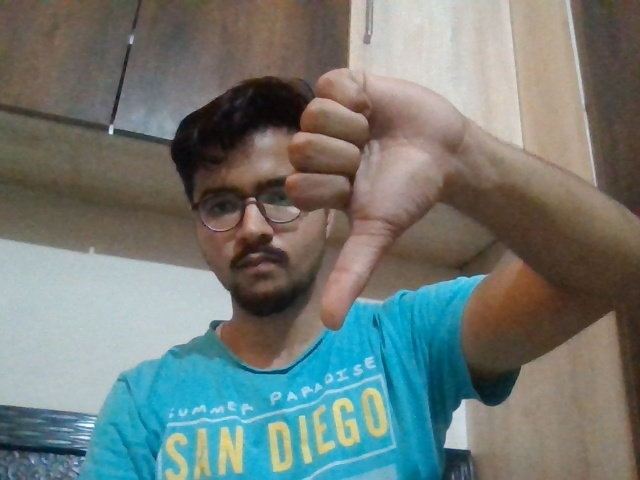no: (289, 73, 474, 321)
